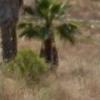Palm tree: (25, 2, 77, 68)
